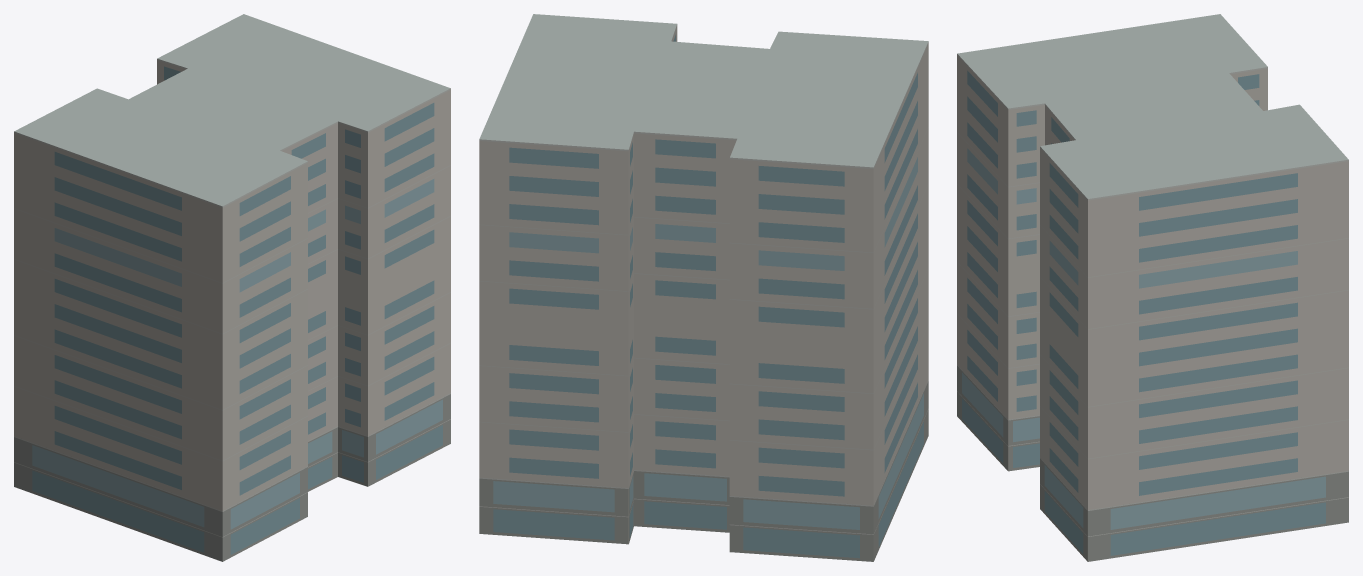
Rendered from survey-upis-32769748.glb.
The picture shows the model from 3 angles, left to right: view 1: azimuth 30°, elevation 25°; view 2: azimuth 150°, elevation 25°; view 3: azimuth 270°, elevation 25°; orthographic projection. The views are drawn at different scales.
Visible parts, largest first — view 1: survey-upis-32769748.tmp; view 2: survey-upis-32769748.tmp; view 3: survey-upis-32769748.tmp.
Part boxes in pixels (x1=…): survey-upis-32769748.tmp: x1=14, y1=14, x2=450, y2=561; survey-upis-32769748.tmp: x1=479, y1=14, x2=928, y2=561; survey-upis-32769748.tmp: x1=957, y1=14, x2=1348, y2=561.
Size of the model in its own units: 64.69 by 59.1 by 57.85.
